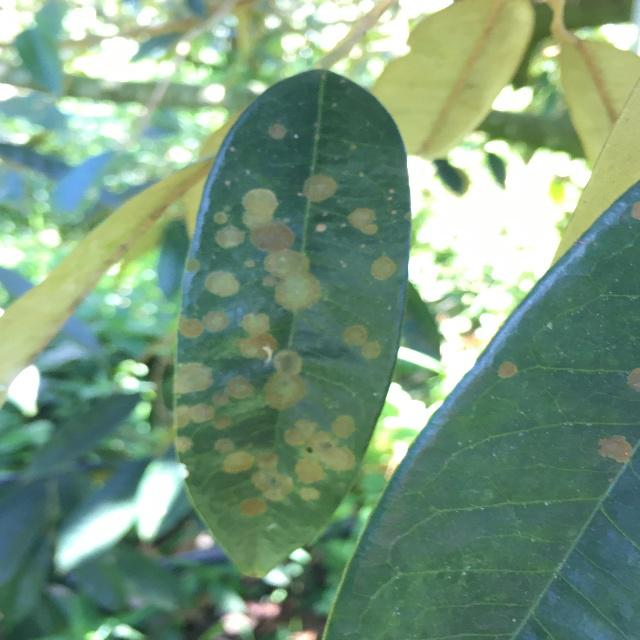Algal Leaf Spot: (167, 61, 418, 592)
